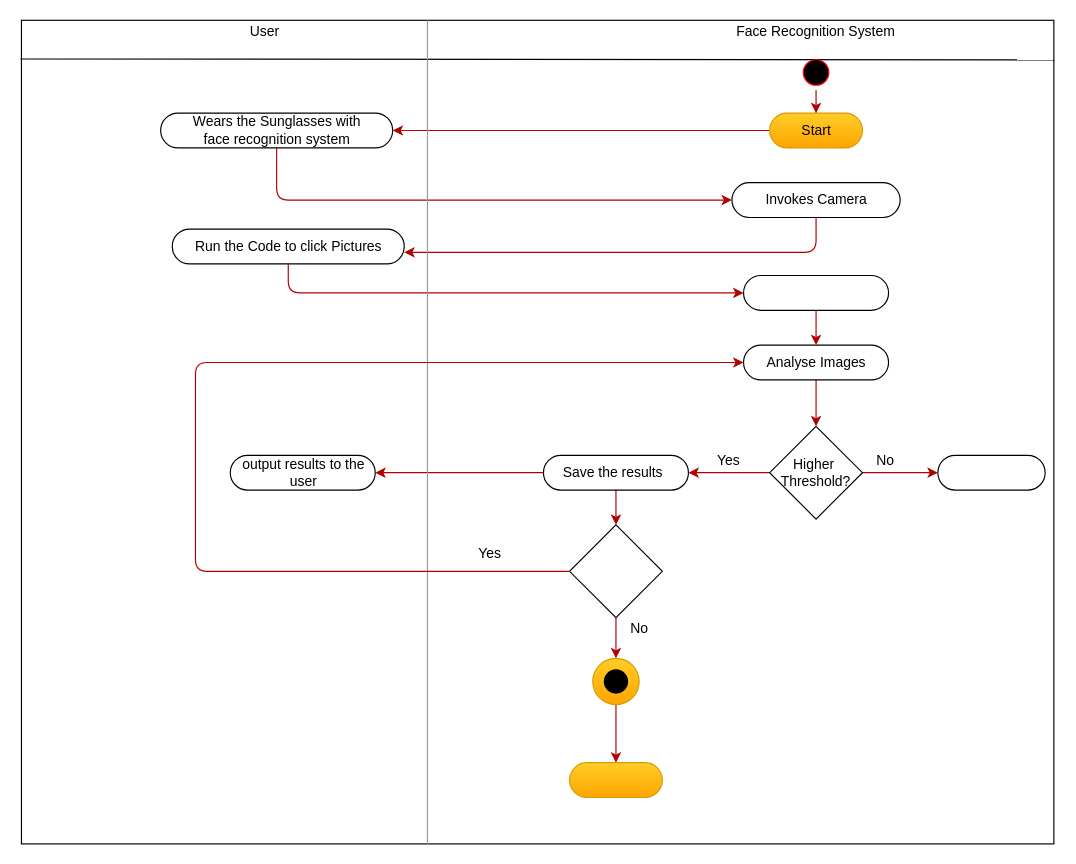
Some shapes in this 1076 by 864 pixel diagram are drawn without their labels. Each missing label, with the box of its shape:
Another Scan?: (568, 524, 662, 618)
Delete Image: (937, 454, 1045, 490)
End: (568, 762, 662, 798)
Starting Camera: (742, 274, 889, 310)
